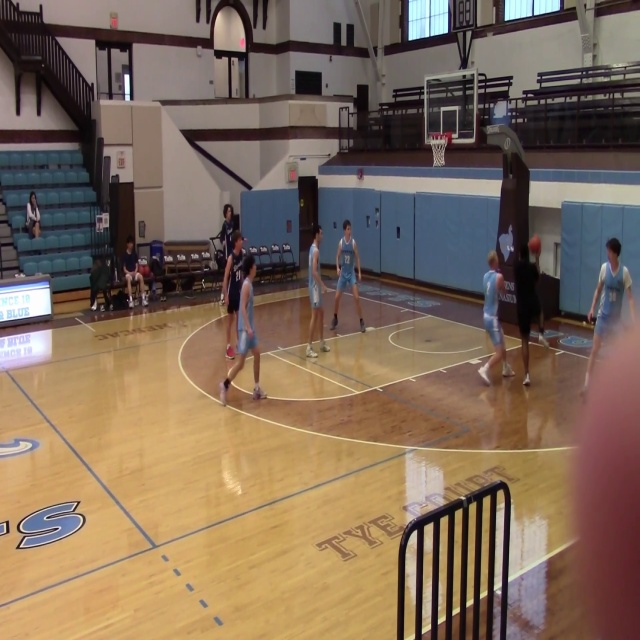Basketball: (528, 235, 541, 253), (226, 345, 235, 359)
